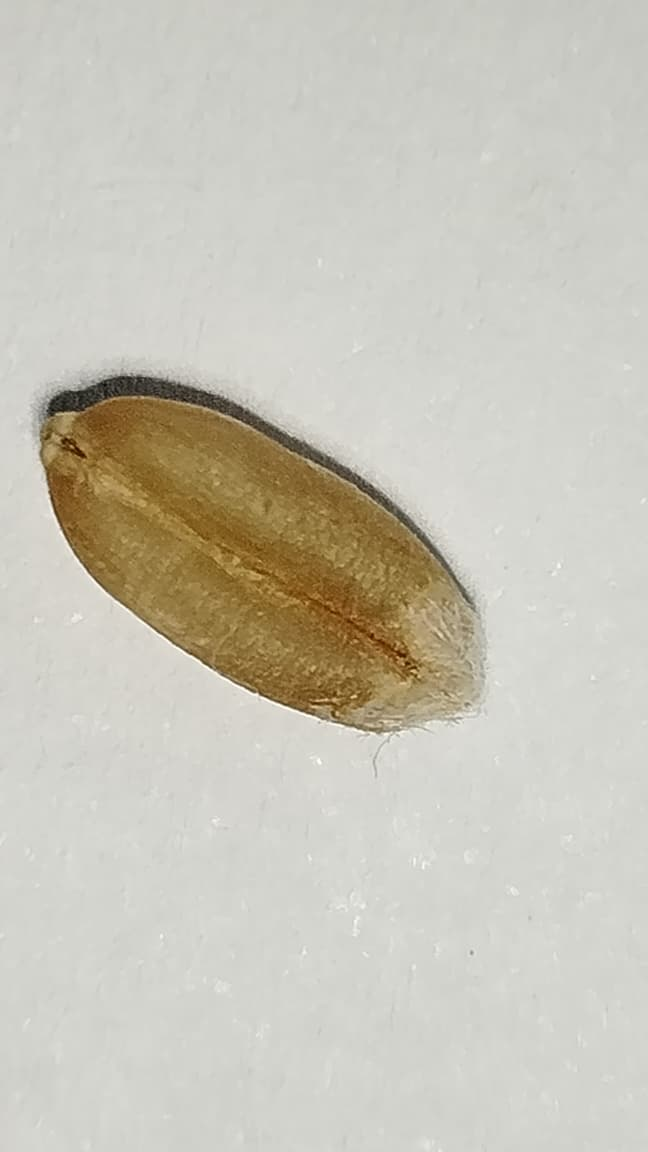healthy: (41, 392, 484, 737)
